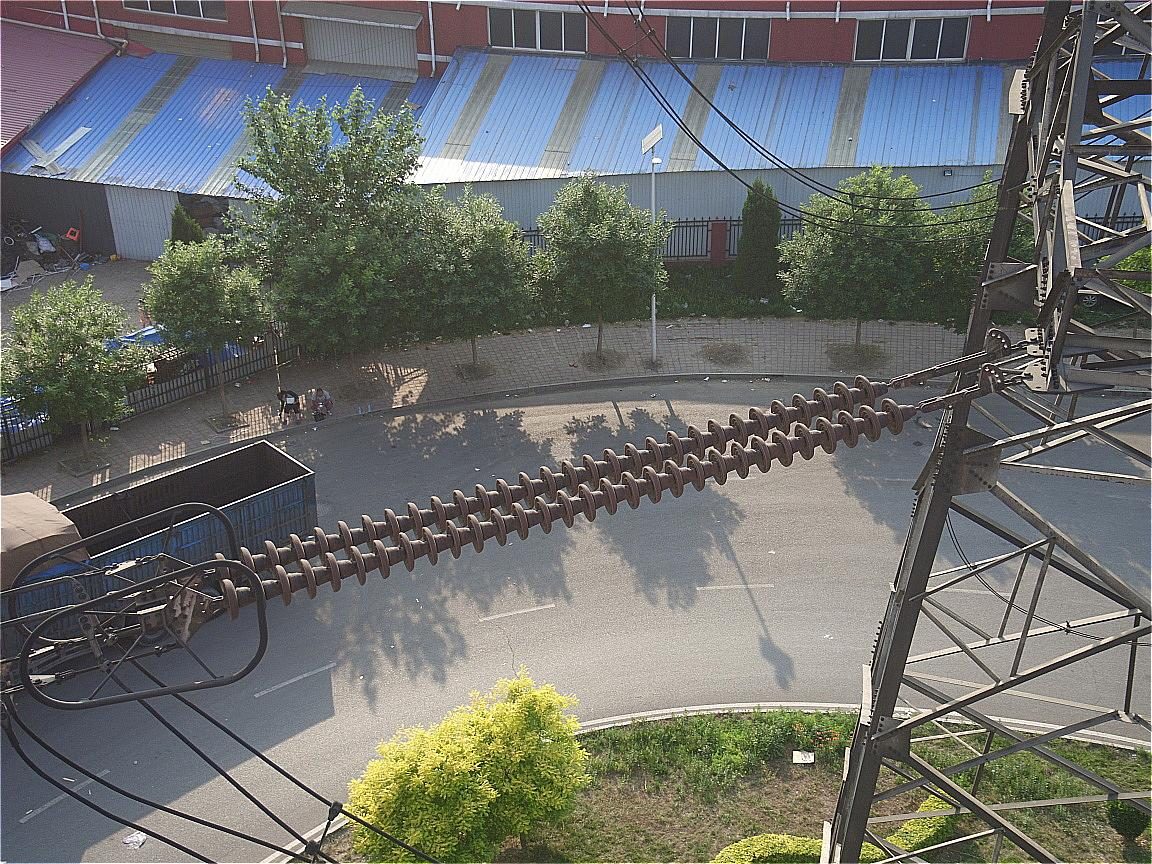insultor1: (212, 375, 905, 621)
